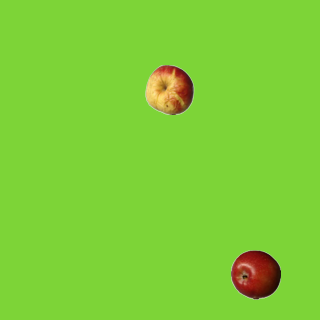Apple Braeburn: (230, 249, 280, 299)
Apple Red Yellow 1: (144, 64, 194, 114)
